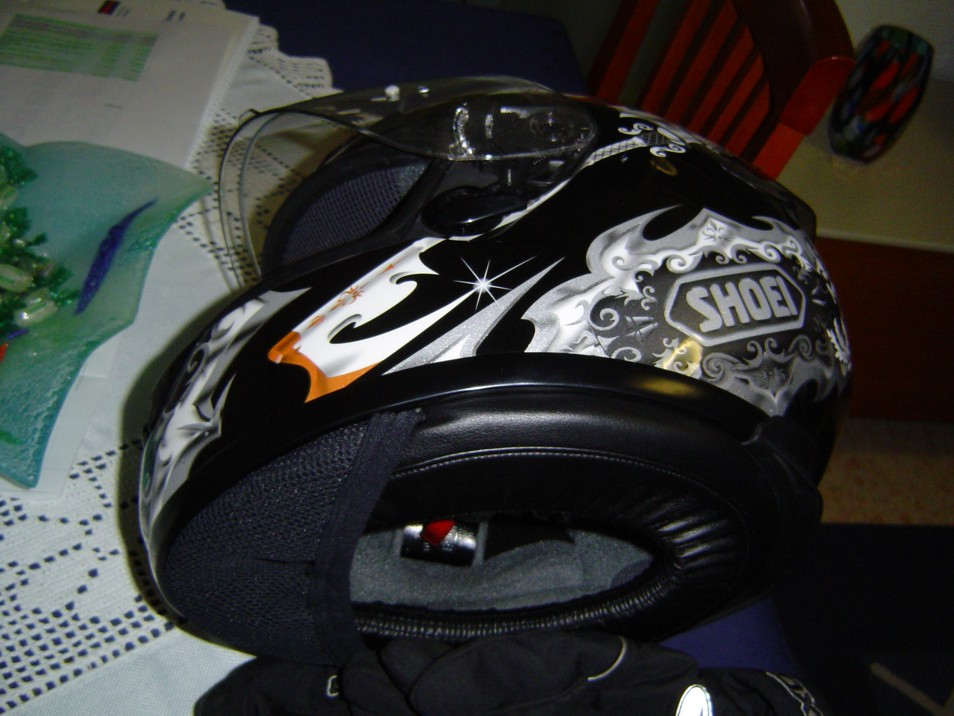helmet: (164, 72, 844, 576)
